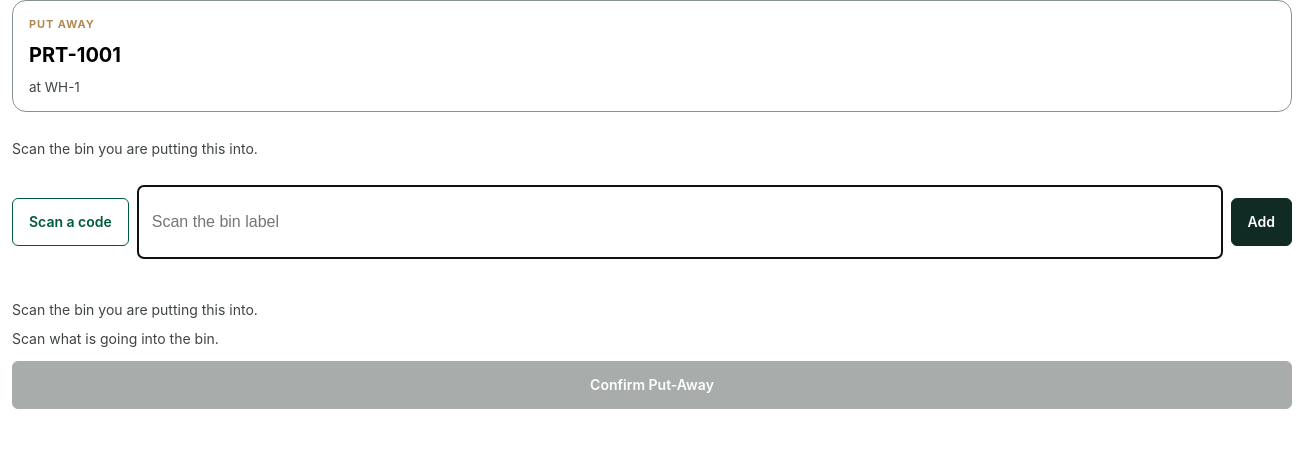
Test: Put-away (the bin is validated before anything goes in it) › an unregistered bin says so, distinctly
Type "A-14" into the field named "scan bin" at x=680, y=222, box [137,185,1223,259]
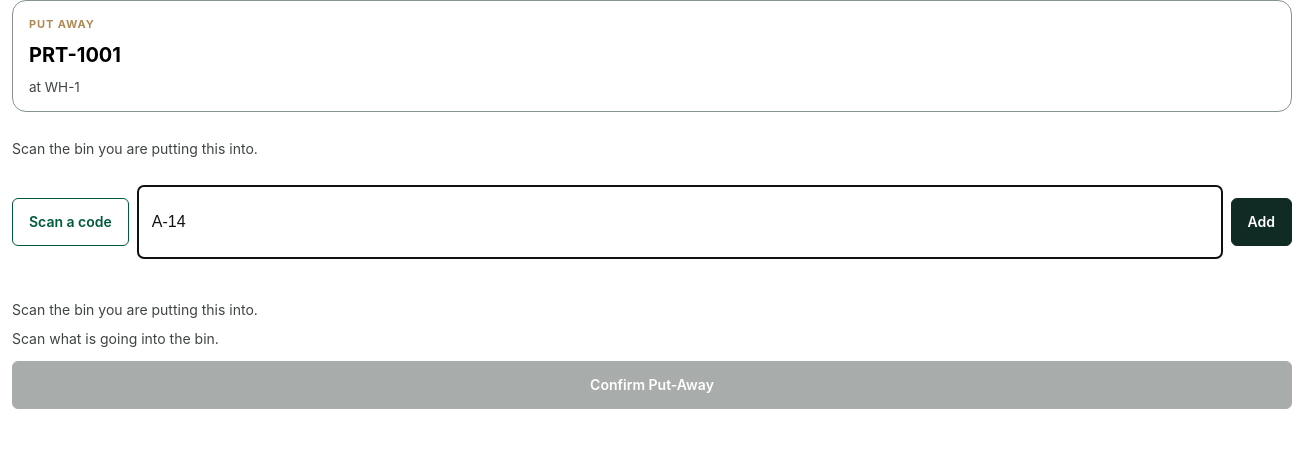
Click the button "Add" at x=1261, y=222, box [1230,198,1292,246]
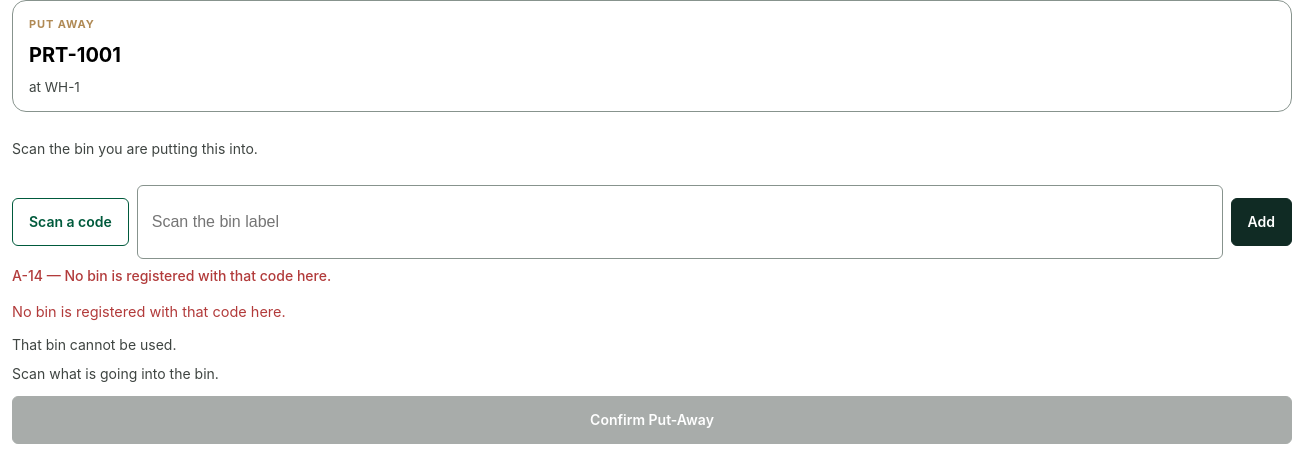
Expected: the message "No bin is registered with that code here." is shown, [12,303,286,320]
